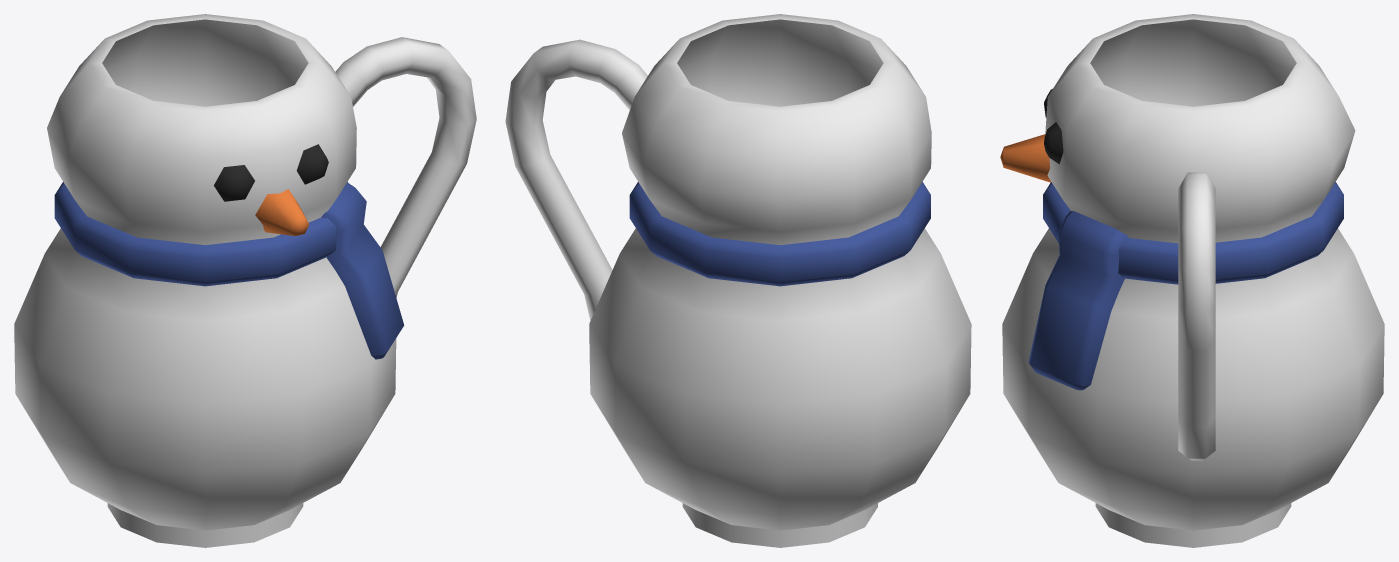
Rendered from MugSnowman_01.fbx.
The picture shows the model from 3 angles, left to right: view 1: azimuth 30°, elevation 25°; view 2: azimuth 150°, elevation 25°; view 3: azimuth 270°, elevation 25°; orthographic projection.
Parts seen in each view (by area): view 1: MugSnowman_01; view 2: MugSnowman_01; view 3: MugSnowman_01.
Part boxes in pixels (<box>): MugSnowman_01: <box>14,14,476,547</box>; MugSnowman_01: <box>505,14,971,547</box>; MugSnowman_01: <box>1000,14,1384,547</box>.
Size of the model in its own units: 0.1701 by 0.1661 by 0.1304.
